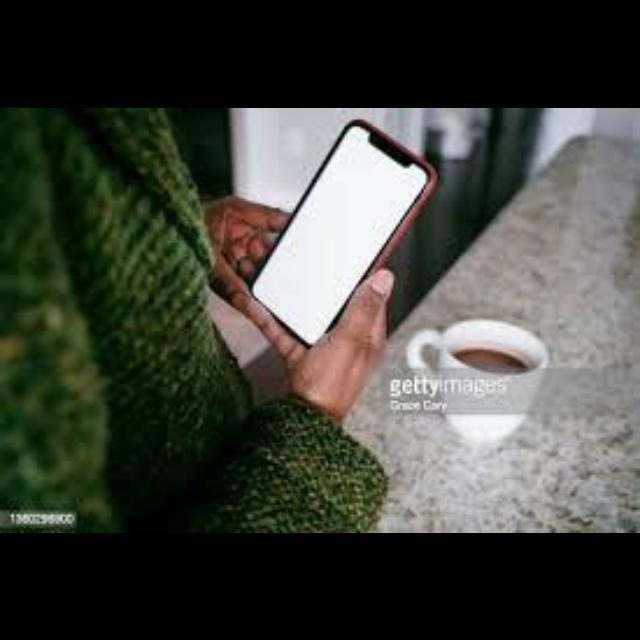PhoneUse: (235, 112, 439, 358)
